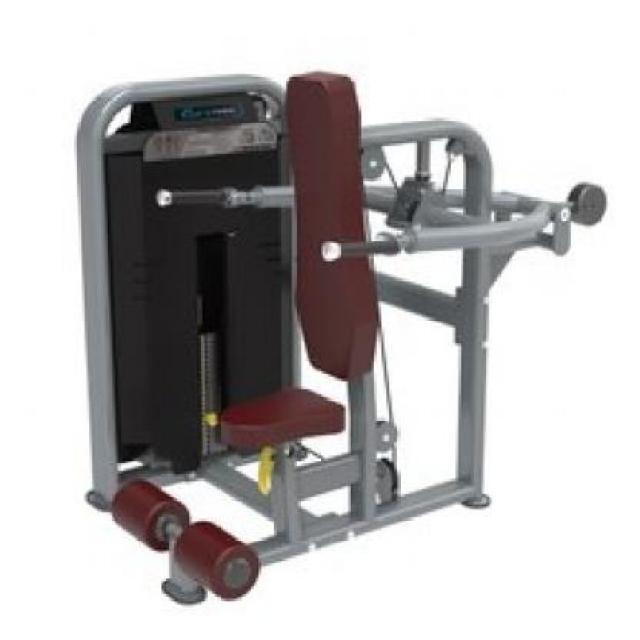seated dip machine: (72, 74, 614, 603)
